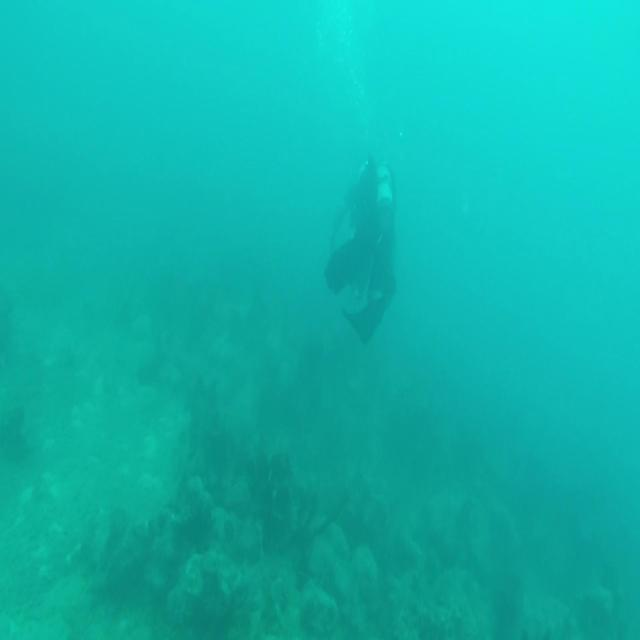human: (324, 152, 397, 345)
